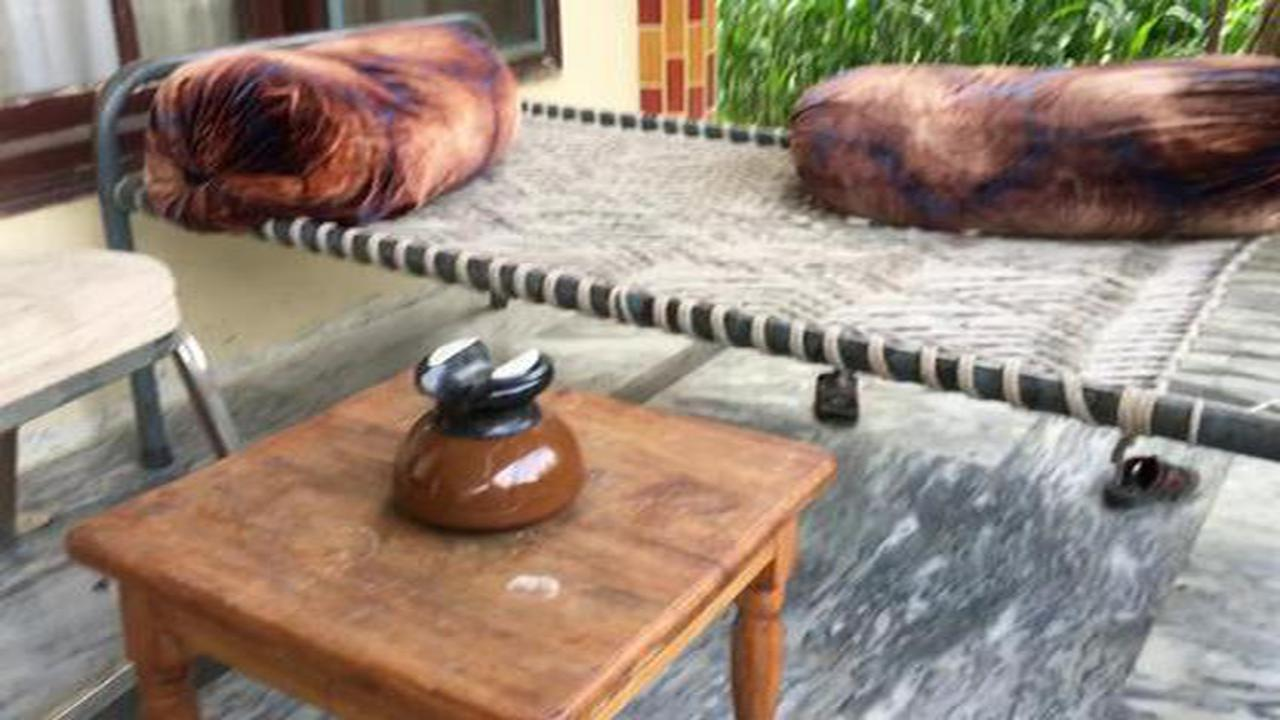insulator_pin: (373, 321, 601, 541)
